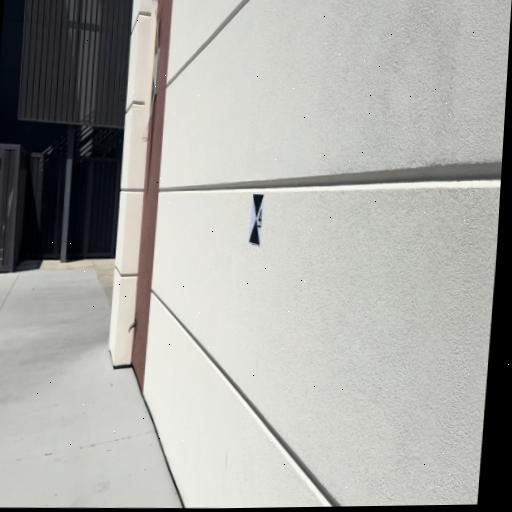target4: (249, 194, 265, 246)
